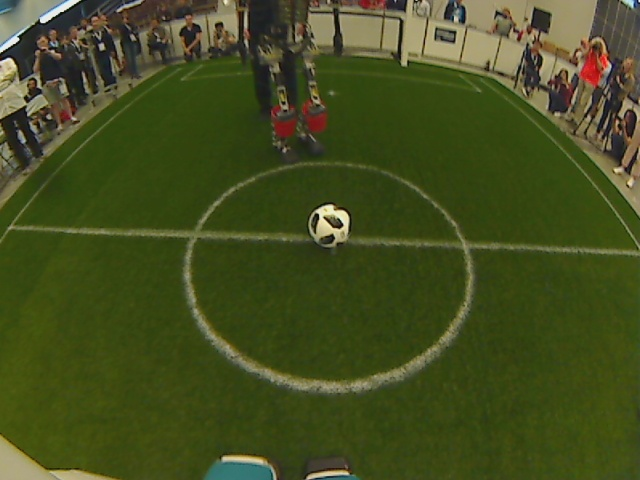ball: (304, 202, 354, 250)
